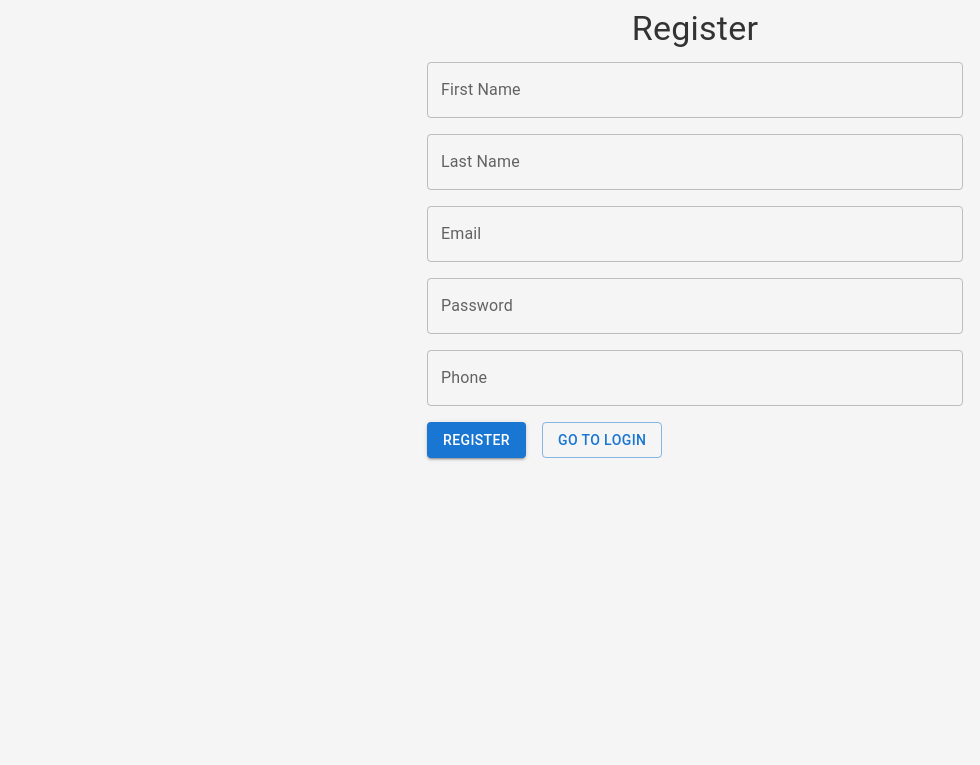
Scenario: Register Page › renders register form and submits
Type "John" into the field labelled "First Name".
click(695, 90); type("John")  # box [427, 62, 963, 118]
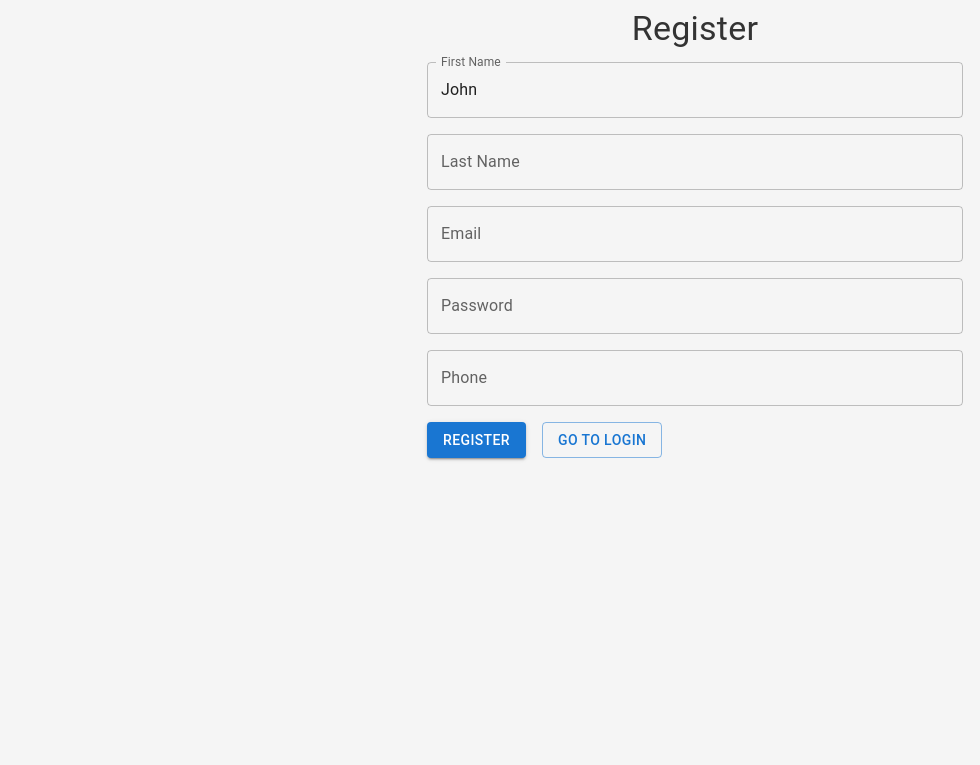
Type "Smith" into the field labelled "Last Name".
click(695, 162); type("Smith")  # box [427, 134, 963, 190]
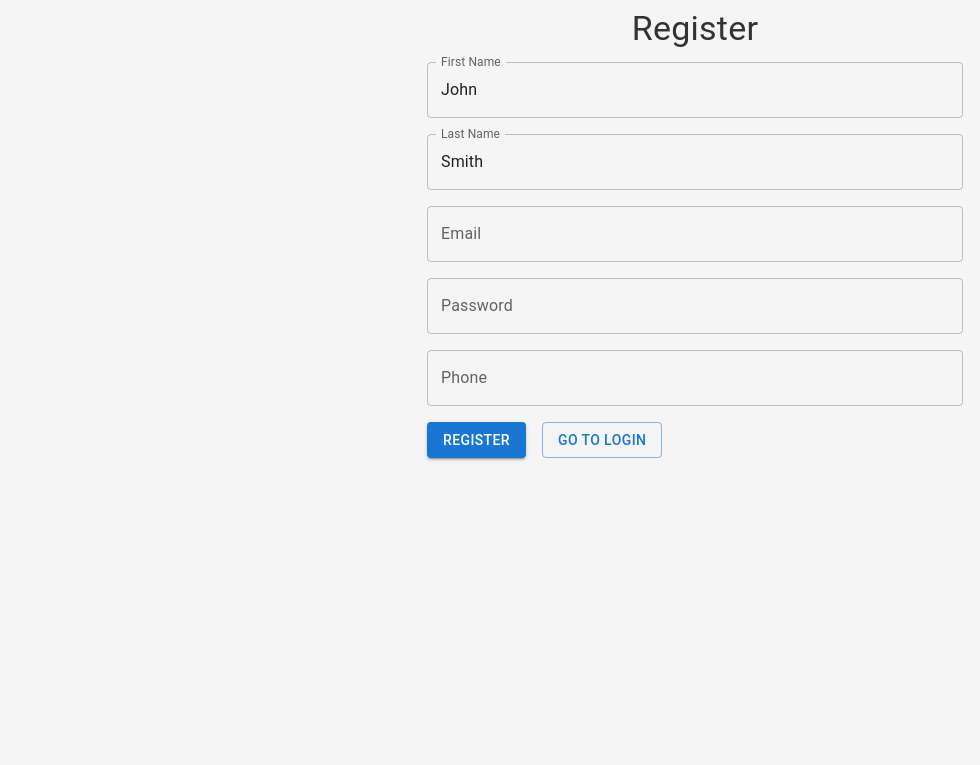
Type "641-233-9335" into the field labelled "Phone".
click(695, 378); type("641-233-9335")  # box [427, 350, 963, 406]
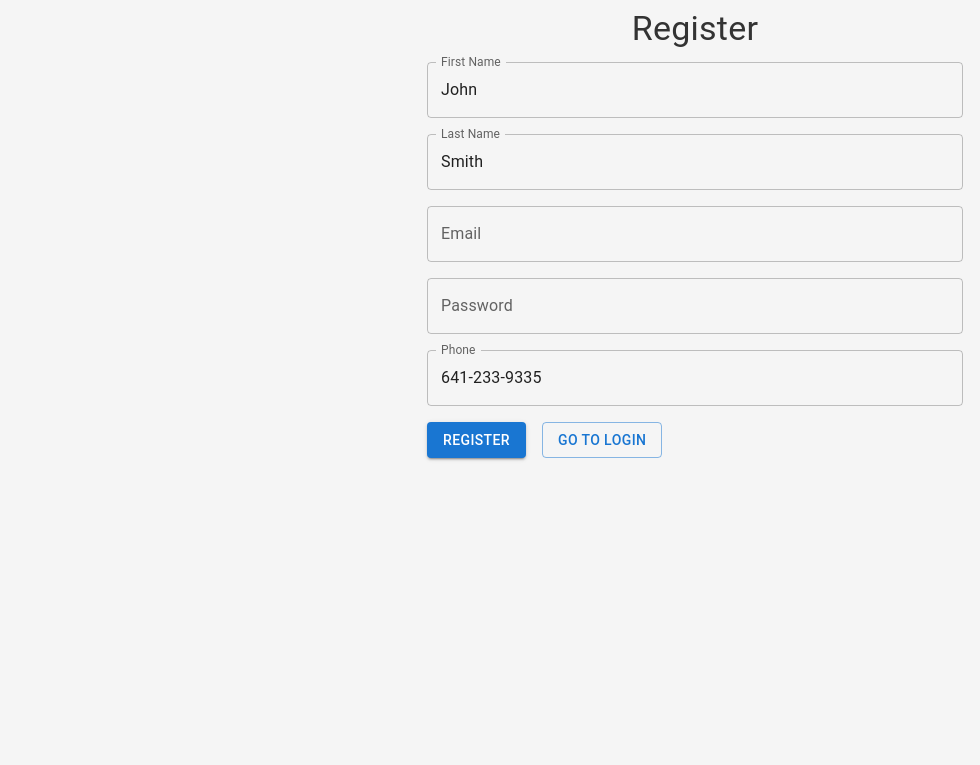
Type "test@example.com" into the field labelled "Email".
click(695, 234); type("test@example.com")  # box [427, 206, 963, 262]
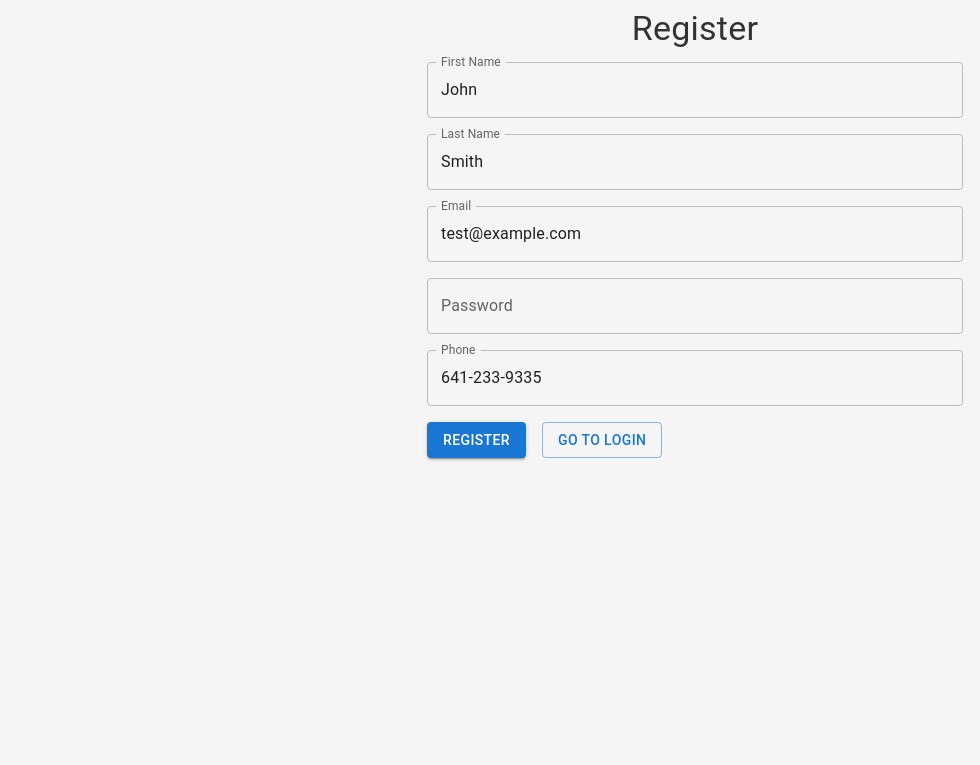
Type "password" into the password field labelled "Password".
click(695, 306); type("password")  # box [427, 278, 963, 334]
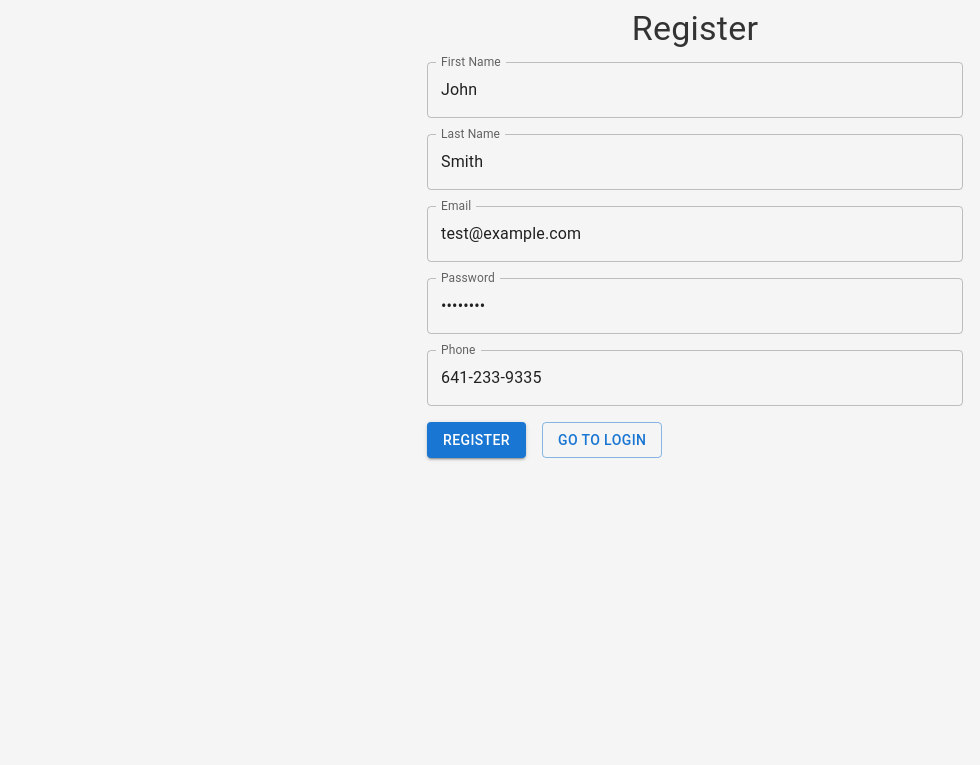
Click the button "Register".
click(476, 440)  # box [427, 422, 526, 458]
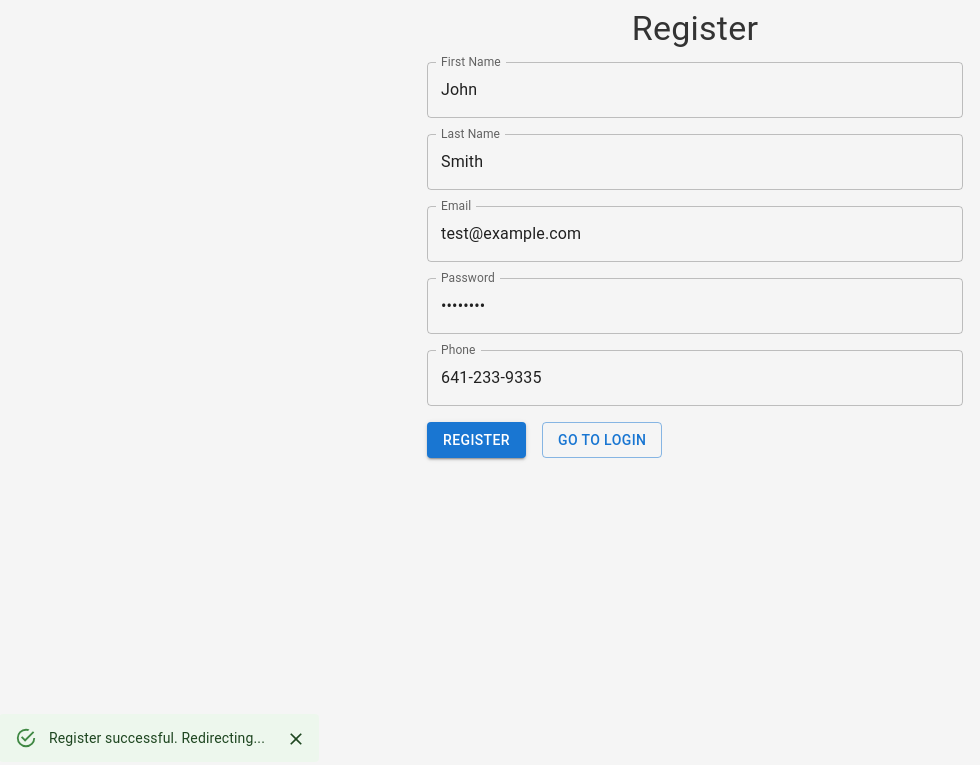
Check: the text "Register successful. Redirecting..." is shown, box [49, 730, 265, 746]
